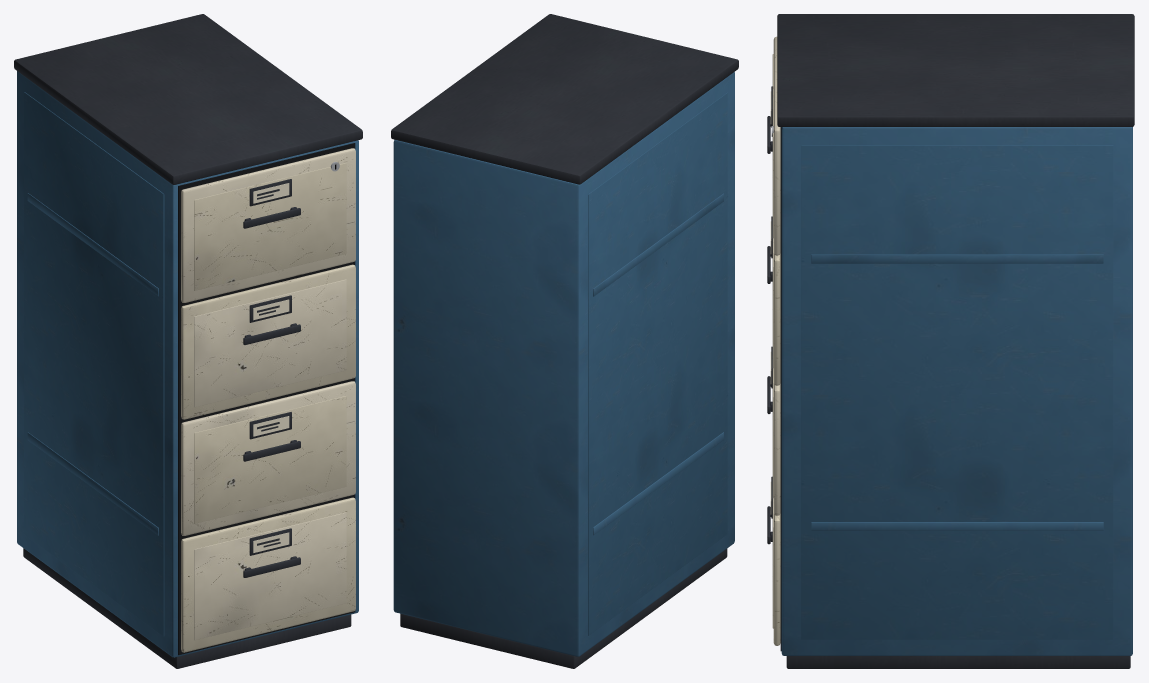
Rendered from file_cabinet.glb.
The picture shows the model from 3 angles, left to right: view 1: azimuth 30°, elevation 25°; view 2: azimuth 150°, elevation 25°; view 3: azimuth 270°, elevation 25°; orthographic projection. The views are drawn at different scales.
Parts seen in each view (by area): view 1: FileCabinetBody; view 2: FileCabinetBody; view 3: FileCabinetBody.
Part boxes in pixels (bbox=[...]): FileCabinetBody: bbox=[14, 14, 362, 668]; FileCabinetBody: bbox=[391, 14, 738, 668]; FileCabinetBody: bbox=[767, 14, 1134, 668].
Size of the model in its own units: 0.5 by 1.25 by 0.747.
Materials: 10 (6 with a texture image).
